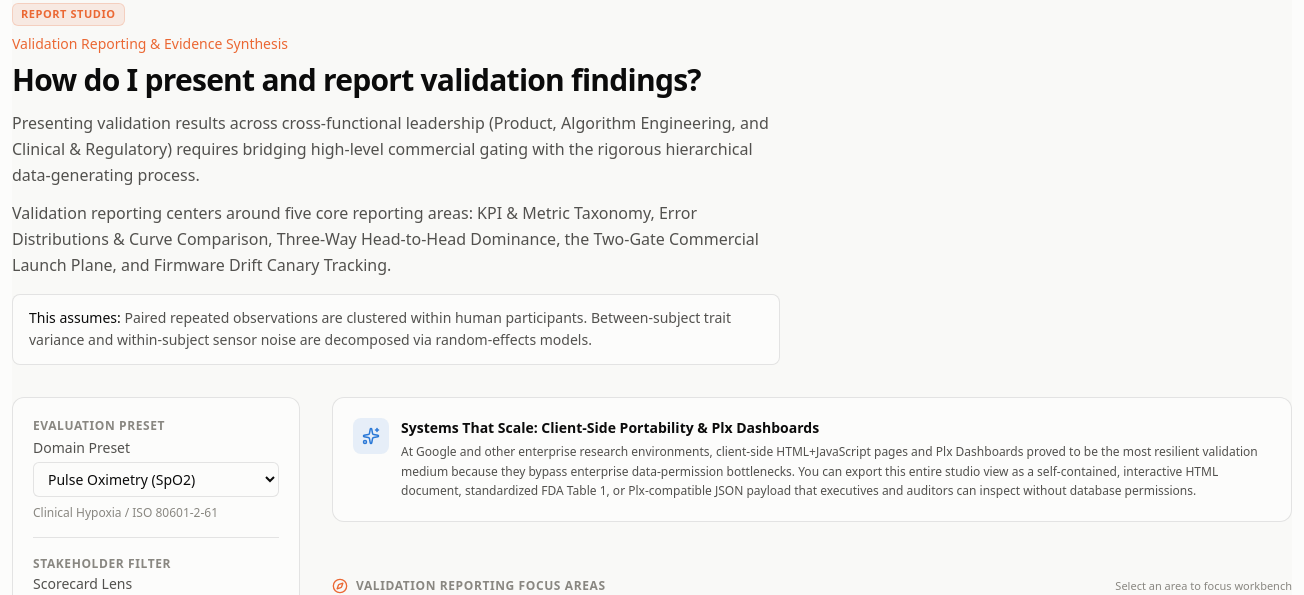
Test case: ReportStudioPage › switches between presets (e.g. Exercise Heart Rate and Sleep Staging)
The image size is (1304, 595).
Select "Exercise Heart Rate (Wearable vs ECG)" in the dropdown labelled "Domain Preset" at {"x": 156, "y": 480}, box [33, 462, 279, 497]
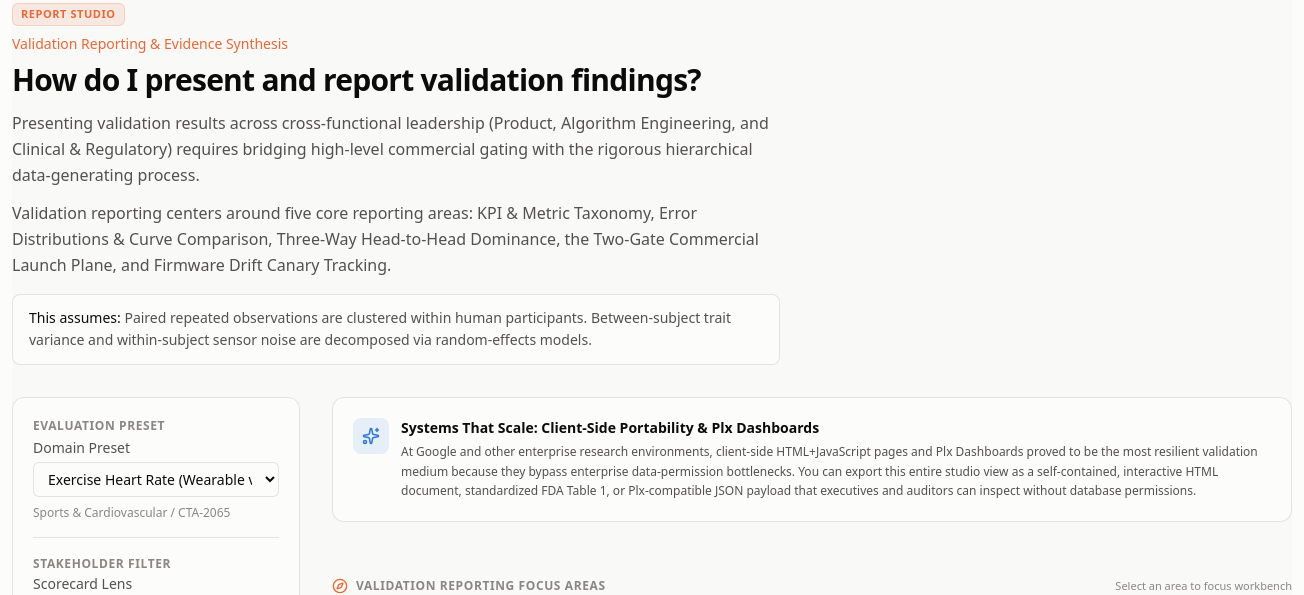
Result: the text "Sports & Cardiovascular / CTA-2065" is shown at [33, 504, 230, 521]
Note: Switch to Sleep Staging
Select "Sleep Staging (Wearable vs PSG)" in the dropdown labelled "Domain Preset" at {"x": 156, "y": 480}, box [33, 462, 279, 497]
(page scrolled)
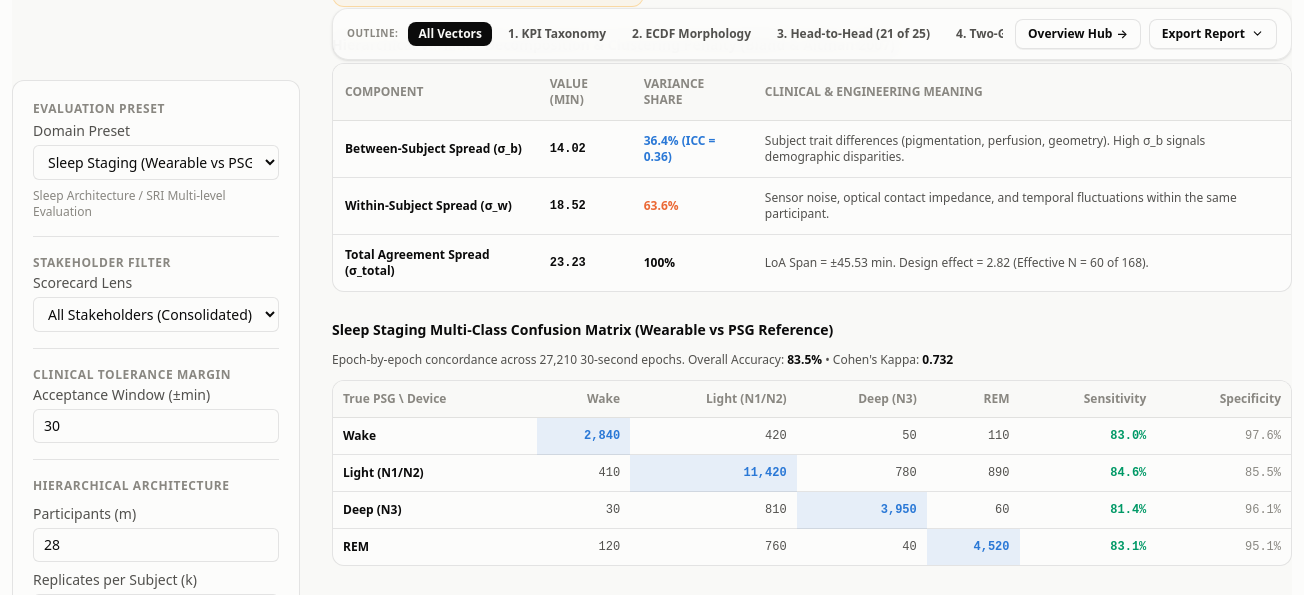
Result: the heading "Sleep Staging Multi-Class Confusion Matrix" is shown at [332, 320, 833, 339]
Result: the text "cohen's kappa" is shown at [822, 351, 922, 368]
